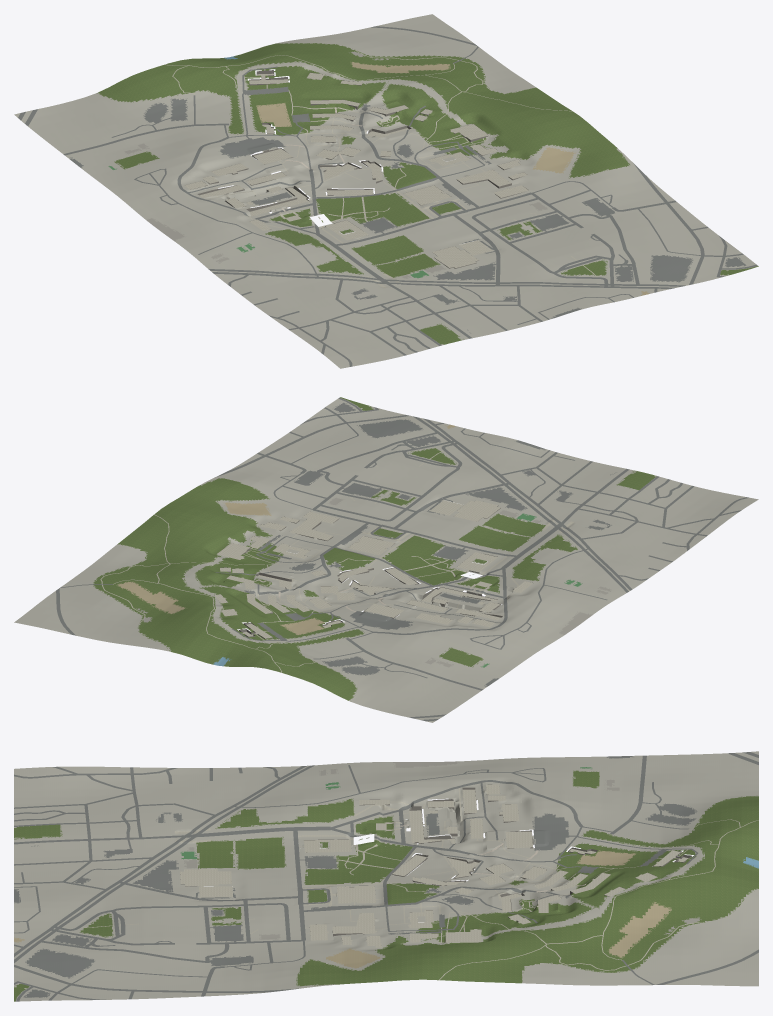
3 views of the same model, one above another, from view 1: azimuth 30°, elevation 25°; view 2: azimuth 150°, elevation 25°; view 3: azimuth 270°, elevation 25° (orthographic). The views are drawn at different scales.
Visible parts, largest first — view 1: ajou-base, ajou-grass, ajou-asphalt, ajou-paving, ajou-woodOver, ajou-pitchTurf, gym__exteriorFoundationClosure, ajou-dirtField, ajou-wood, ajou-asphalt-overlay, ajou-garden, ajou-hardcourt; view 2: ajou-base, ajou-grass, ajou-asphalt, ajou-paving, ajou-woodOver, ajou-pitchTurf, ajou-dirtField, ajou-wood, gym__exteriorFoundationClosure, ajou-garden, ajou-hardcourt, ajou-asphalt-overlay; view 3: ajou-base, ajou-grass, ajou-asphalt, ajou-paving, ajou-woodOver, ajou-pitchTurf, ajou-dirtField, ajou-wood, gym__exteriorFoundationClosure, ajou-garden, ajou-asphalt-overlay, ajou-hardcourt (+1 smaller).
Part boxes in pixels (x1,y1,x2,y2): ajou-base: (14,14,756,368); ajou-grass: (98,43,758,344); ajou-asphalt: (18,26,757,366); ajou-paving: (165,50,597,288); ajou-woodOver: (244,65,485,155); ajou-pitchTurf: (115,152,438,277); gym__exteriorFoundationClosure: (185,70,527,268); ajou-dirtField: (257,62,648,295); ajou-wood: (265,162,436,274); ajou-asphalt-overlay: (70,86,741,333); ajou-garden: (271,202,540,239); ajou-hardcourt: (124,51,546,278); ajou-base: (14,398,758,722); ajou-grass: (93,397,655,700); ajou-asphalt: (56,397,748,721); ajou-paving: (100,450,573,672); ajou-woodOver: (195,543,344,640); ajou-pitchTurf: (439,514,545,666); ajou-dirtField: (116,424,455,634); ajou-wood: (323,535,577,580); gym__exteriorFoundationClosure: (214,505,532,638); ajou-garden: (371,489,499,592); ajou-hardcourt: (137,498,610,667); ajou-asphalt-overlay: (244,404,616,686); ajou-base: (14,751,758,1001); ajou-grass: (14,796,758,1001); ajou-asphalt: (14,752,758,1001); ajou-paving: (81,784,758,980); ajou-woodOver: (416,844,696,942); ajou-pitchTurf: (196,770,599,868); ajou-dirtField: (14,851,671,968); ajou-wood: (217,799,439,904); gym__exteriorFoundationClosure: (180,784,691,942); ajou-garden: (212,816,394,925); ajou-asphalt-overlay: (14,756,697,997); ajou-hardcourt: (184,761,699,939).
Size of the model in its own units: 856 by 65.43 by 1156.
27 materials, 20 textured.
